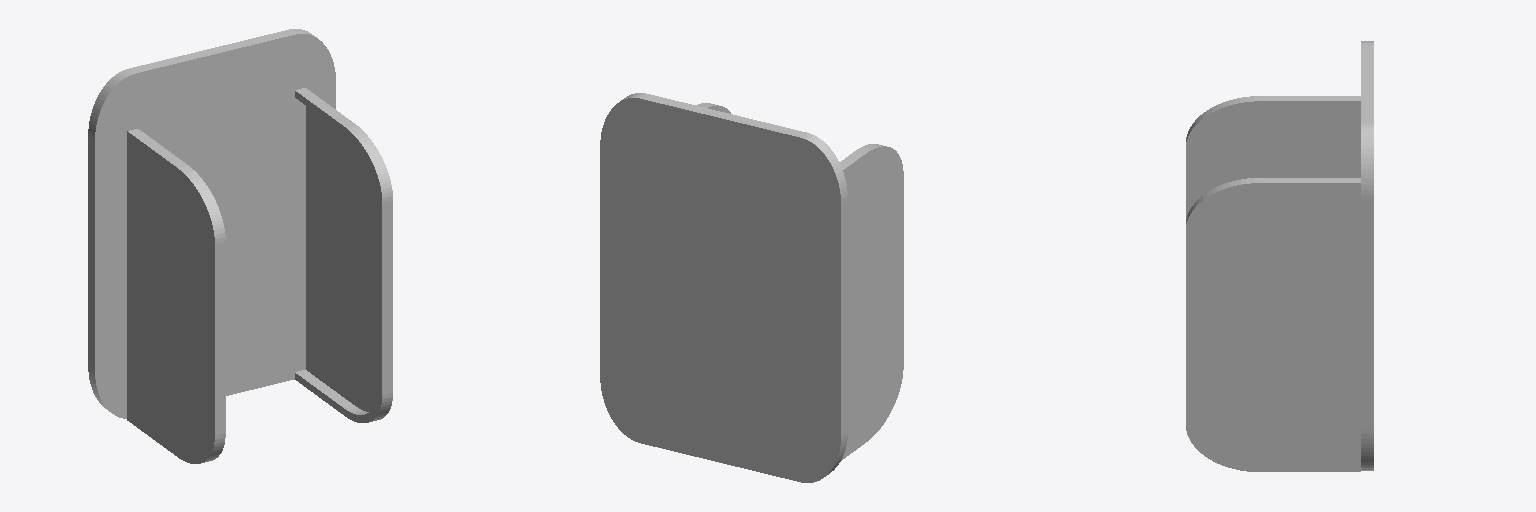
Rendered from DefenderR1.obj.
3 renders of one model, left to right at view 1: azimuth 30°, elevation 25°; view 2: azimuth 150°, elevation 25°; view 3: azimuth 270°, elevation 25°, orthographic.
Parts seen in each view (by area): view 1: DefenderY1_Куб.003; view 2: DefenderY1_Куб.003; view 3: DefenderY1_Куб.003.
Boxes of the visible parts, x1=… form: DefenderY1_Куб.003: x1=88, y1=29, x2=392, y2=463; DefenderY1_Куб.003: x1=600, y1=93, x2=903, y2=482; DefenderY1_Куб.003: x1=1186, y1=41, x2=1373, y2=471.
Bounding box in the file's own units: 0.1444 × 0.1973 × 0.098.